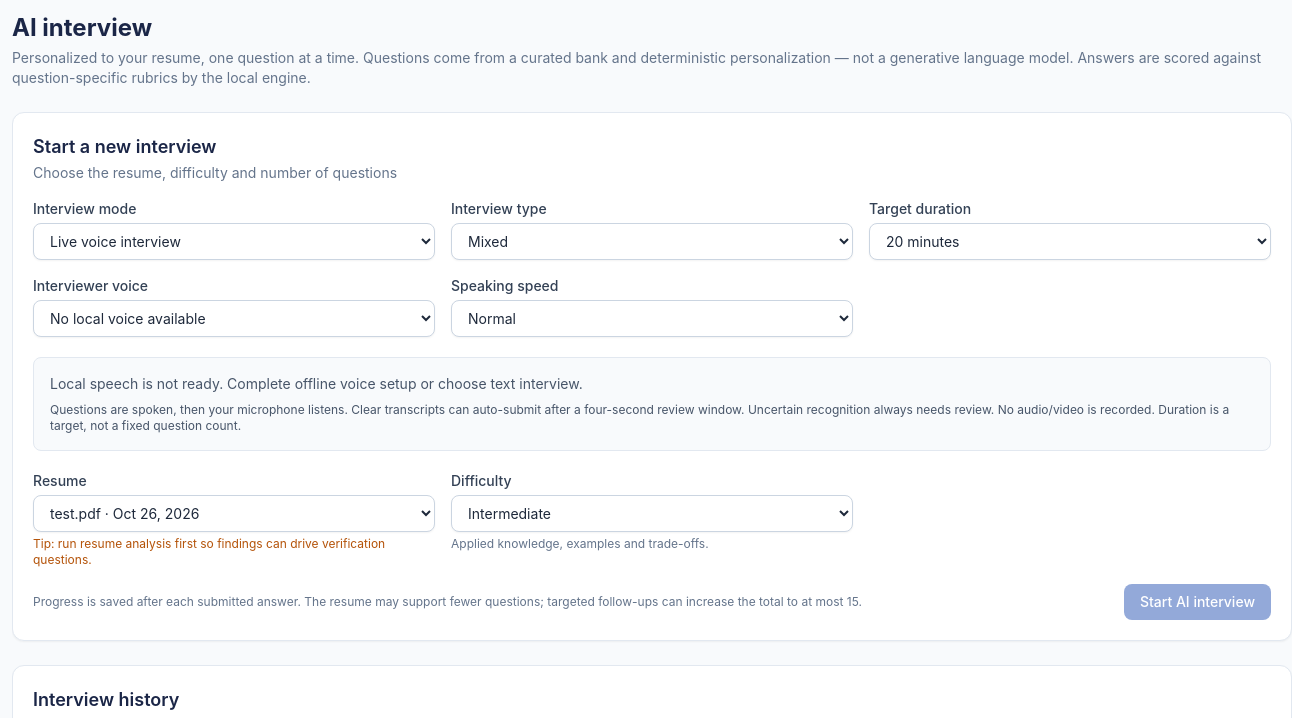
optional media and accessible fallback › keeps text interviews available when local speech models are unavailable
The image size is (1292, 718).
Expected: the button "Start AI interview" is disabled, [1124,584,1271,620]
Select "Text interview" in the dropdown labelled "Interview mode": (234, 242) [33,223,435,260]
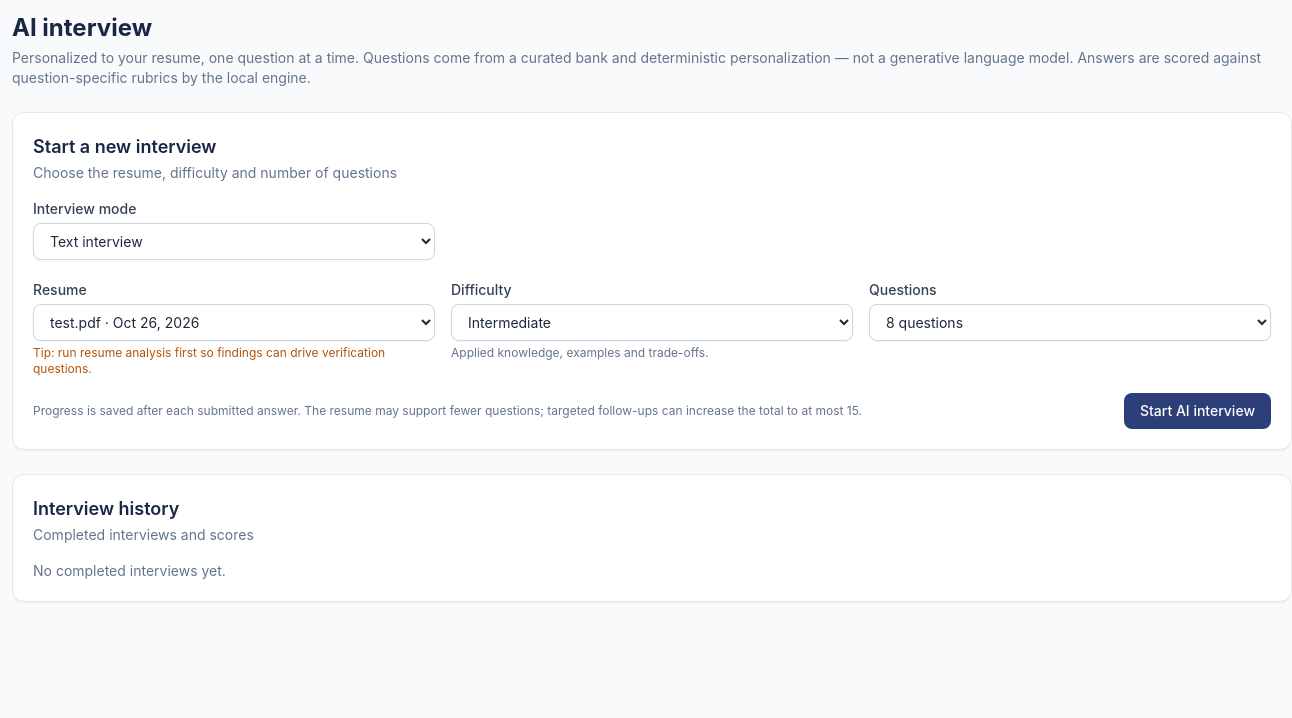
Result: the button "Start AI interview" is enabled at [1124,393,1271,429]
